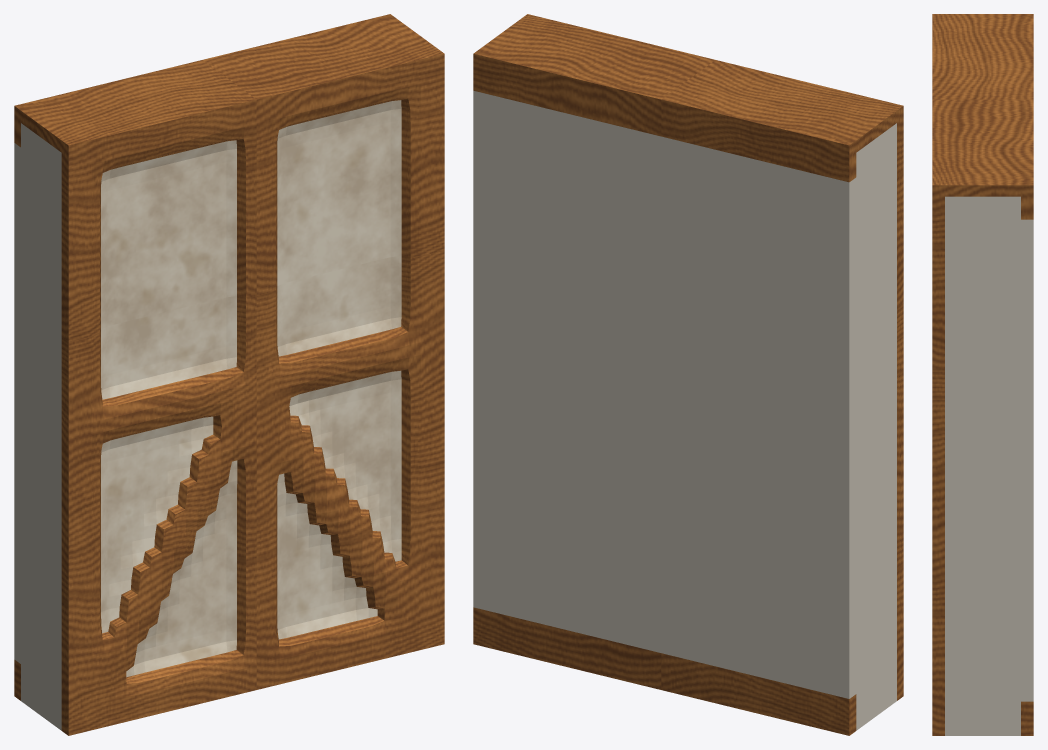
Rendered from wall_out_timber.glb.
3 renders of one model, left to right at view 1: azimuth 30°, elevation 25°; view 2: azimuth 150°, elevation 25°; view 3: azimuth 270°, elevation 25°, orthographic. The views are drawn at different scales.
Parts seen in each view (by area): view 1: town_wall_out_timber; view 2: town_wall_out_timber; view 3: town_wall_out_timber.
Boxes of the visible parts, box(x1,y1,x2,y2) form: town_wall_out_timber: box(14, 14, 444, 735); town_wall_out_timber: box(473, 14, 903, 735); town_wall_out_timber: box(932, 14, 1033, 735).
Bounding box in the file's own units: 1 × 1.5 × 0.25.
2 materials, 1 textured.
